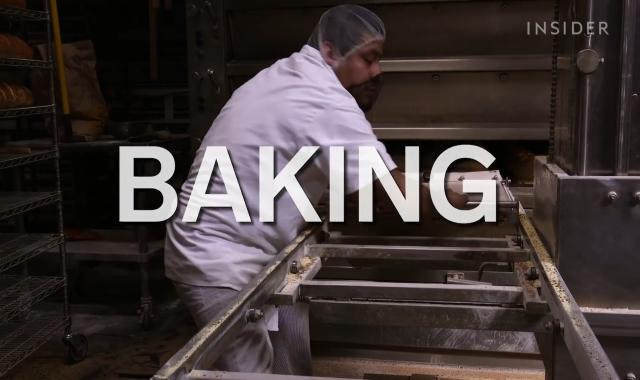hairnet: (314, 6, 388, 64)
